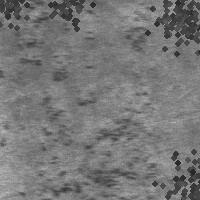rolled-in_scale: (29, 91, 175, 199), (9, 1, 95, 107), (132, 0, 200, 57), (143, 0, 200, 56), (149, 141, 200, 200), (32, 0, 96, 34), (120, 1, 154, 54), (0, 0, 37, 33)
